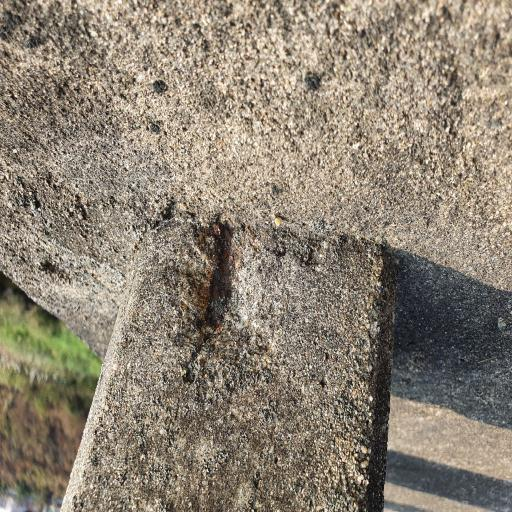exposed_rebar: (206, 222, 234, 327)
